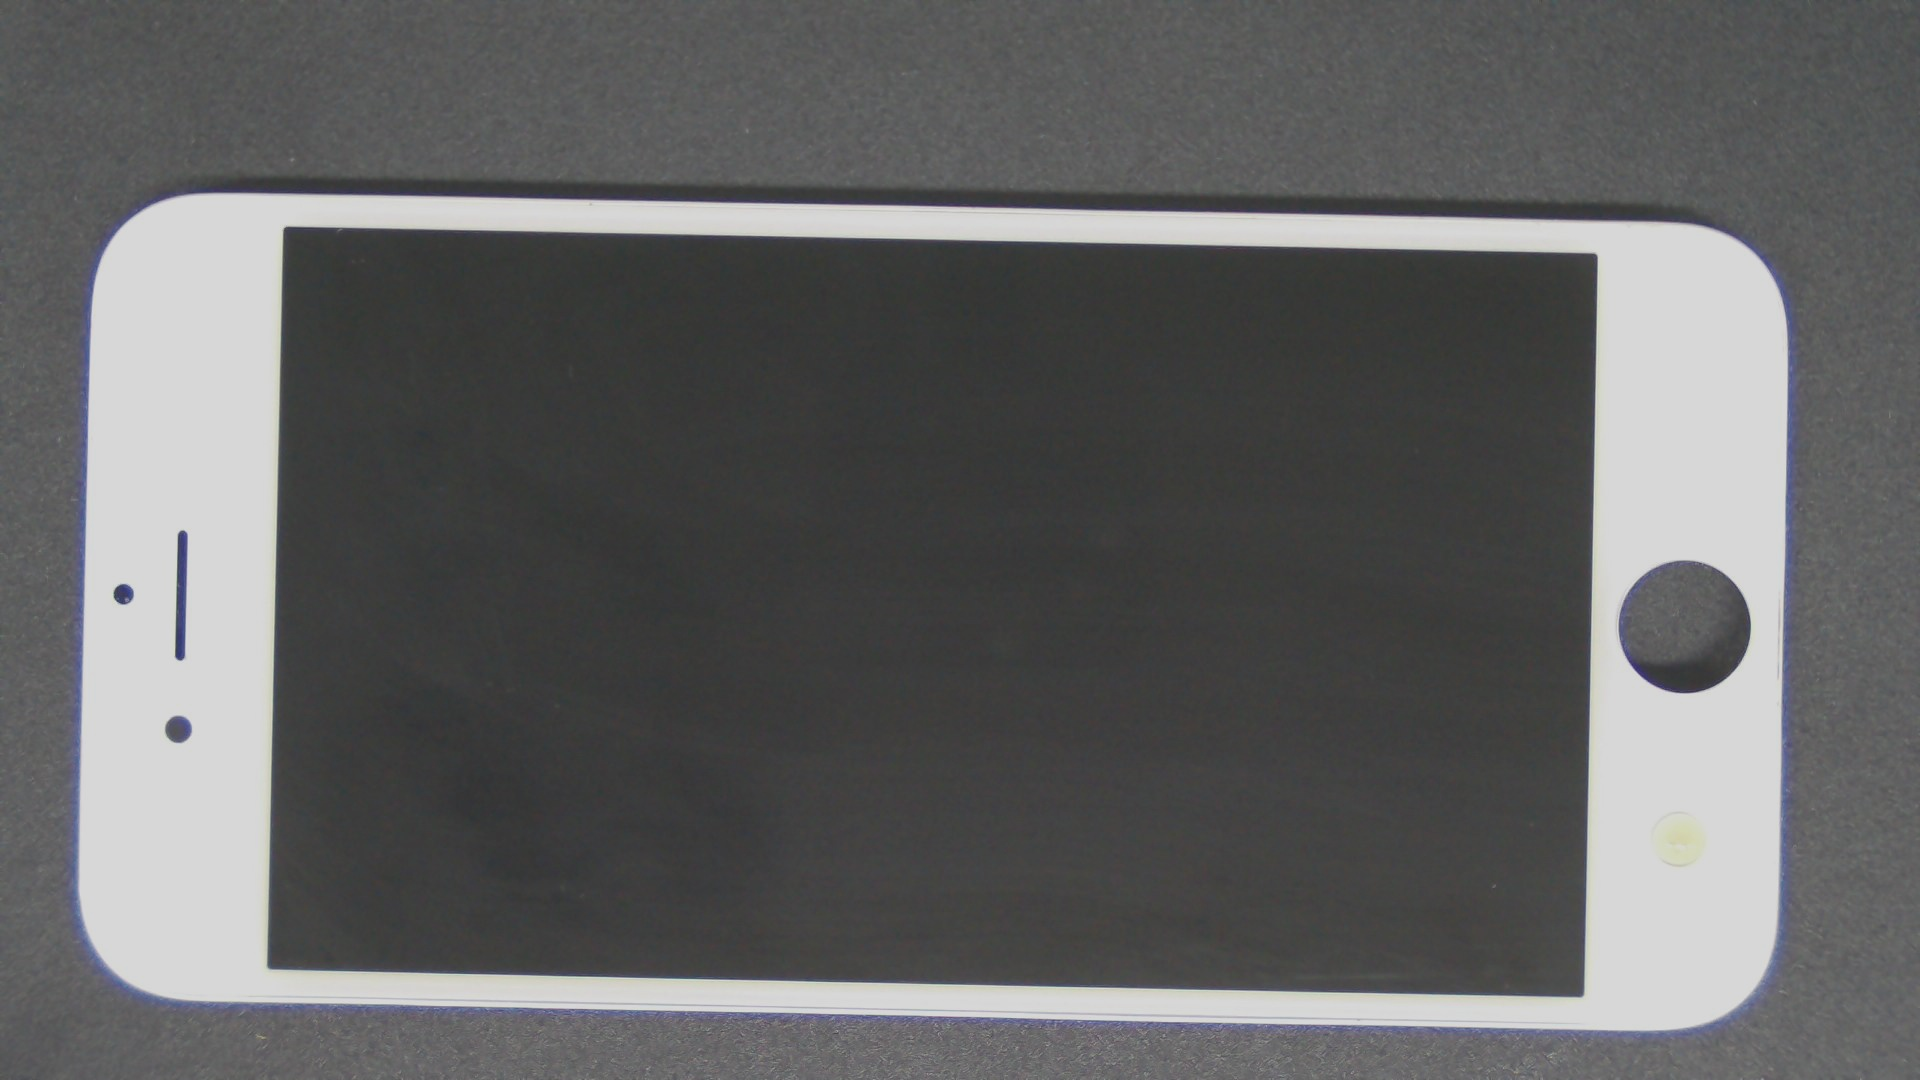oil: (837, 405, 1920, 1080)
